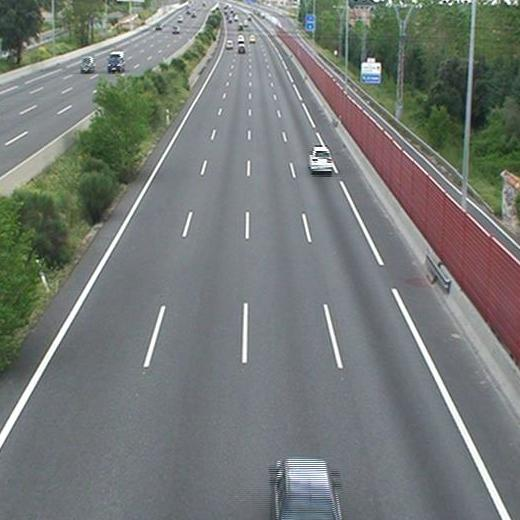car: (273, 458, 340, 520), (309, 148, 331, 172), (237, 44, 244, 53), (225, 41, 233, 48)
